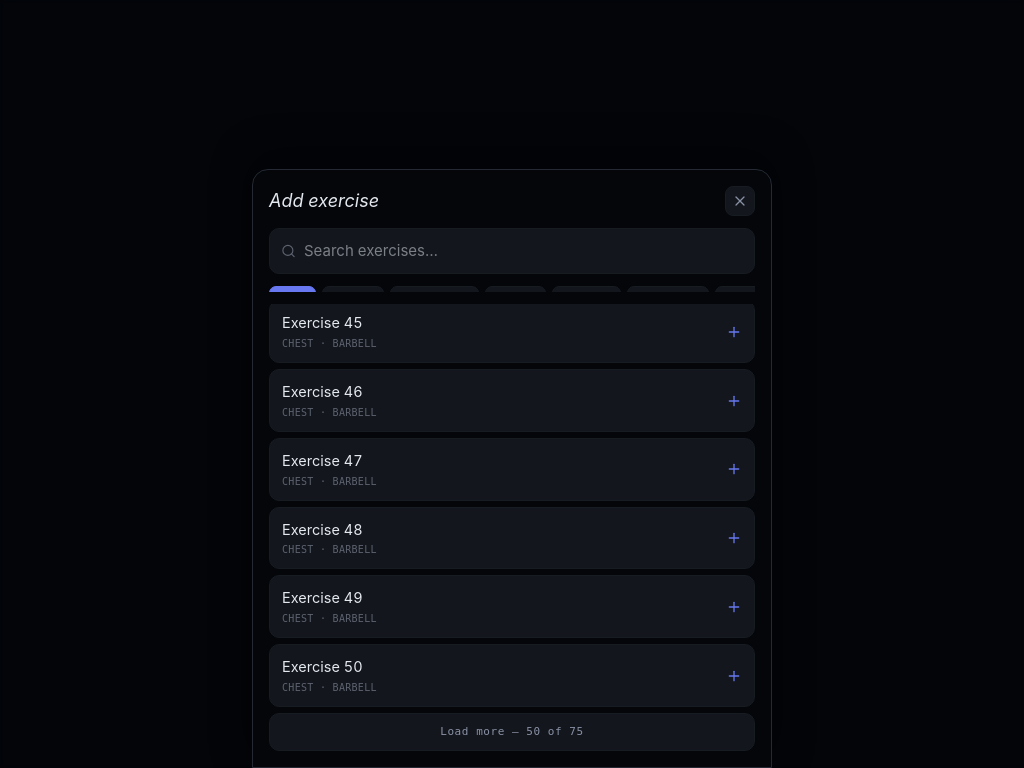
AddExerciseSheet › loads subsequent pages by offset until every exercise is reachable
This screenshot has width=1024, height=768.
(page scrolled)
Expected: the text "Exercise 50" is shown, [282,656,377,678]
Click the button "Load more — 50 of 75" at point(512, 732), box [269,713,755,751]
(page scrolled)
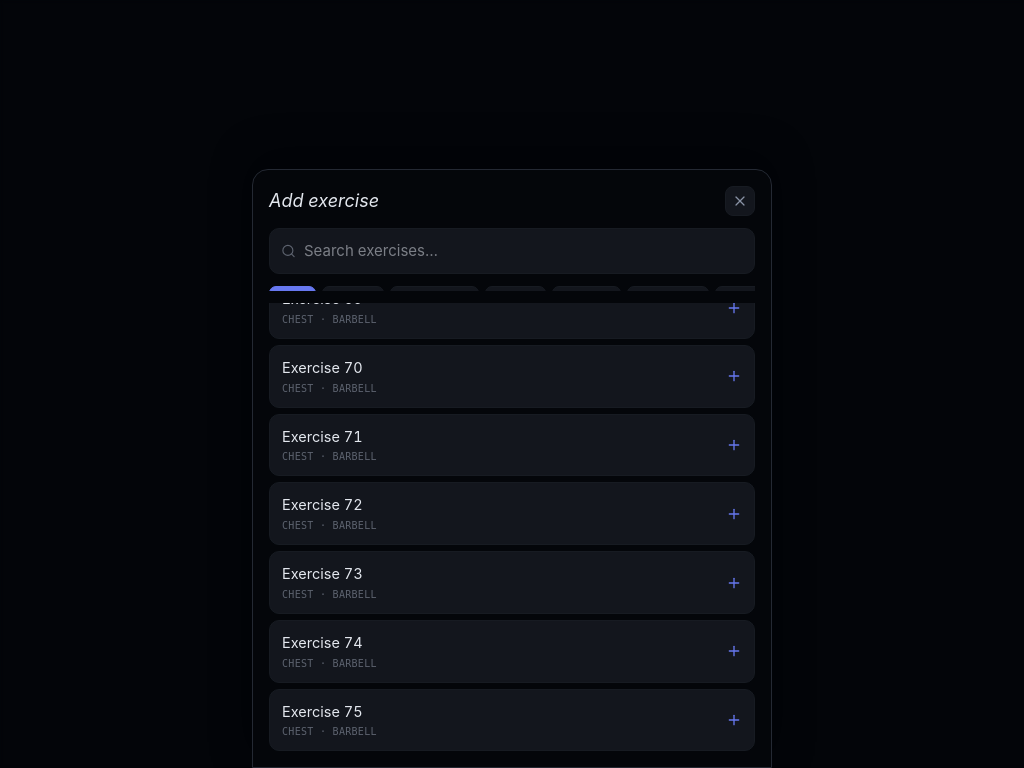
Result: the text "Exercise 75" is shown at [282,701,377,722]
Result: the button "Load more" is gone
